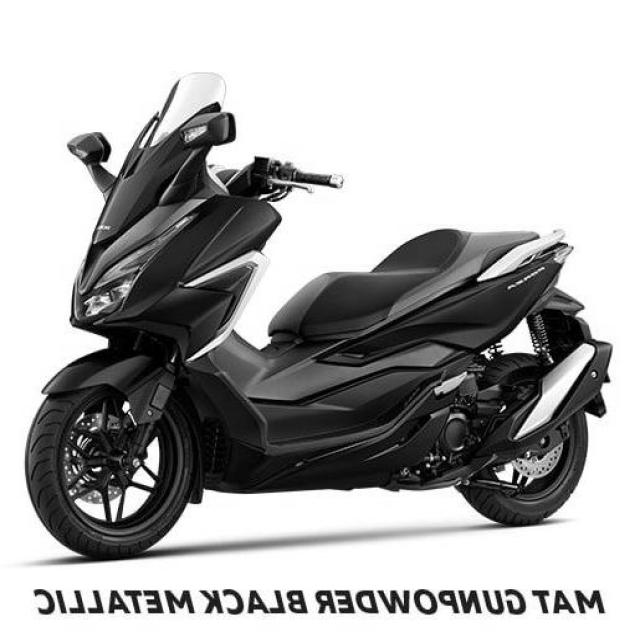Motorcycle: (25, 74, 614, 559)
